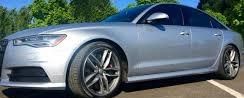Cars: (1, 4, 243, 98)
